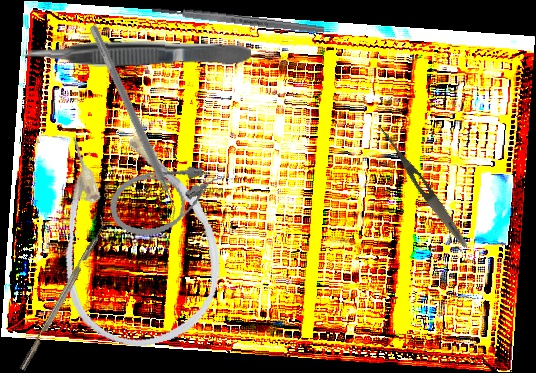Cannula: (33, 109, 237, 361), (104, 156, 232, 244)
Chopper: (11, 213, 112, 372)
Dressing Forceps: (373, 122, 472, 251)
Scalpel Handle: (150, 4, 326, 36)
Spatula Surgical: (80, 24, 186, 224)
Tissue Forceps: (21, 39, 252, 70)
